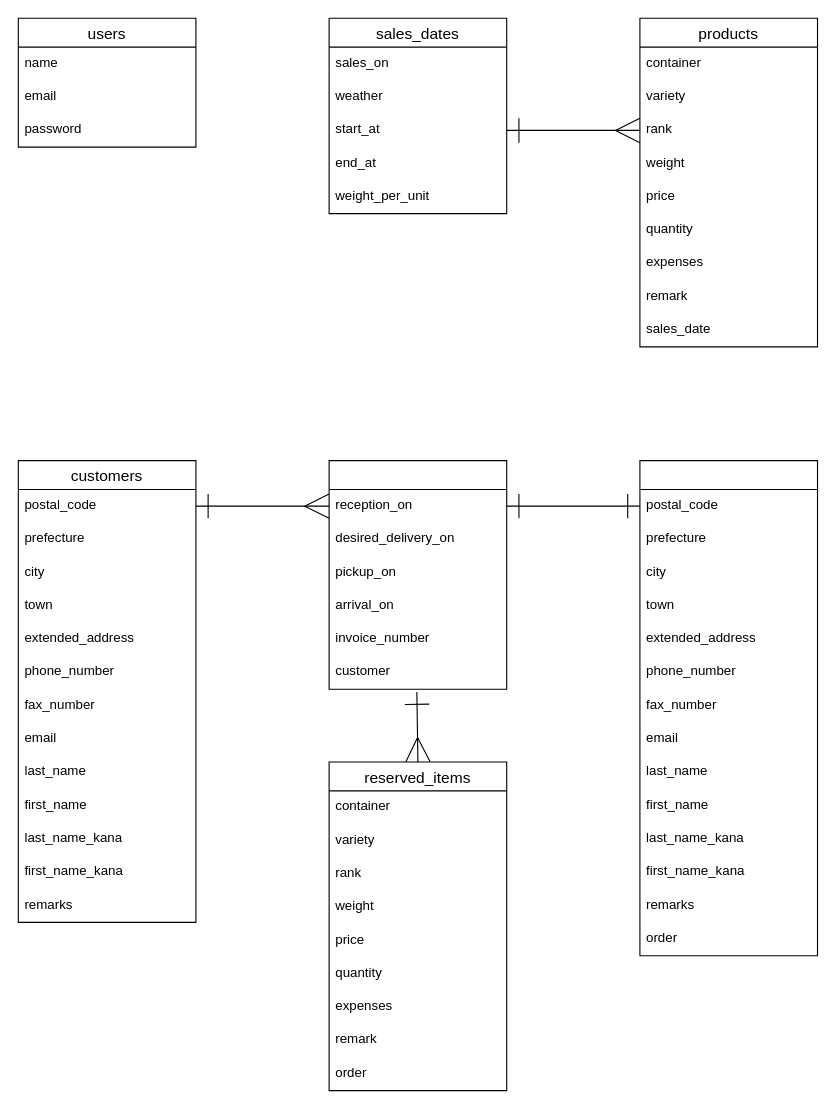
This 836x1109 diagram has some shape labels left out. Here are the shapes that lost their labels. From the top down, the box of each, then its label:
(328, 460, 507, 689): orders
(639, 460, 818, 956): recievers
